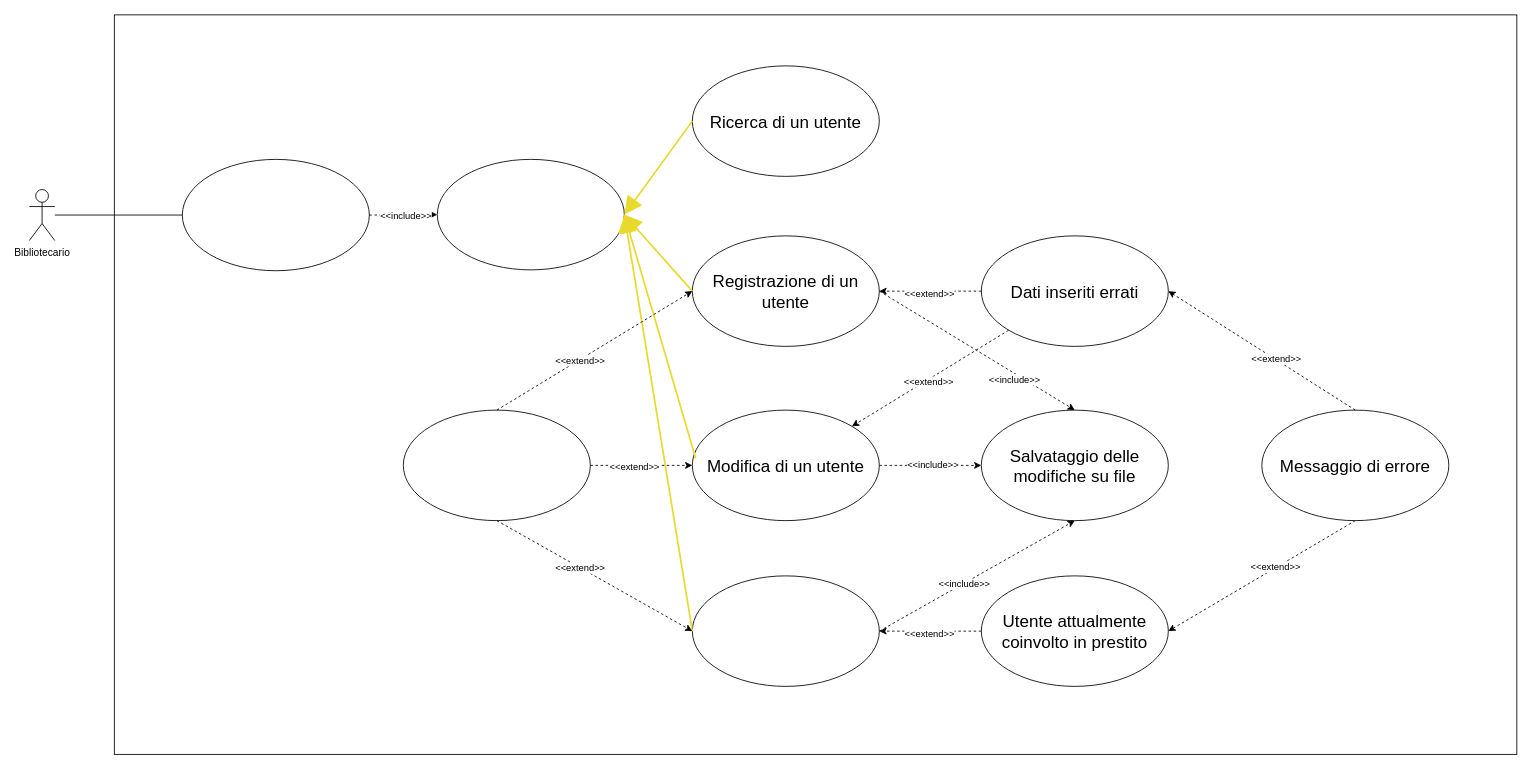
The diagram is 1532 pixels wide and 769 high, and some of its shapes have lost their labels. The box of each missing label's shape, as (x1, y1, x2, y2) in pixels:
Accesso all'interfaccia degli utenti: (181, 159, 369, 271)
Gestione degli utenti: (436, 159, 624, 270)
Il bibliotecario annulla l'operazione: (402, 409, 590, 521)
Rimozione di un utente: (691, 575, 879, 686)
